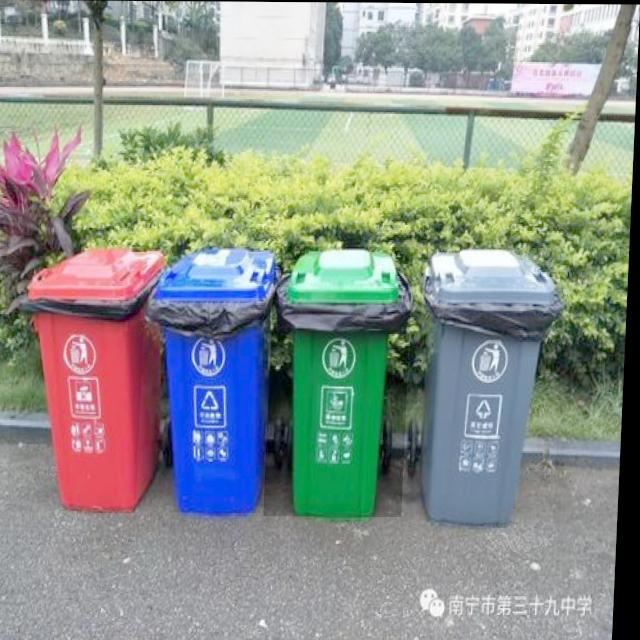garbage_bin: (11, 244, 169, 511), (417, 247, 567, 524), (268, 246, 415, 516), (141, 246, 282, 515)
